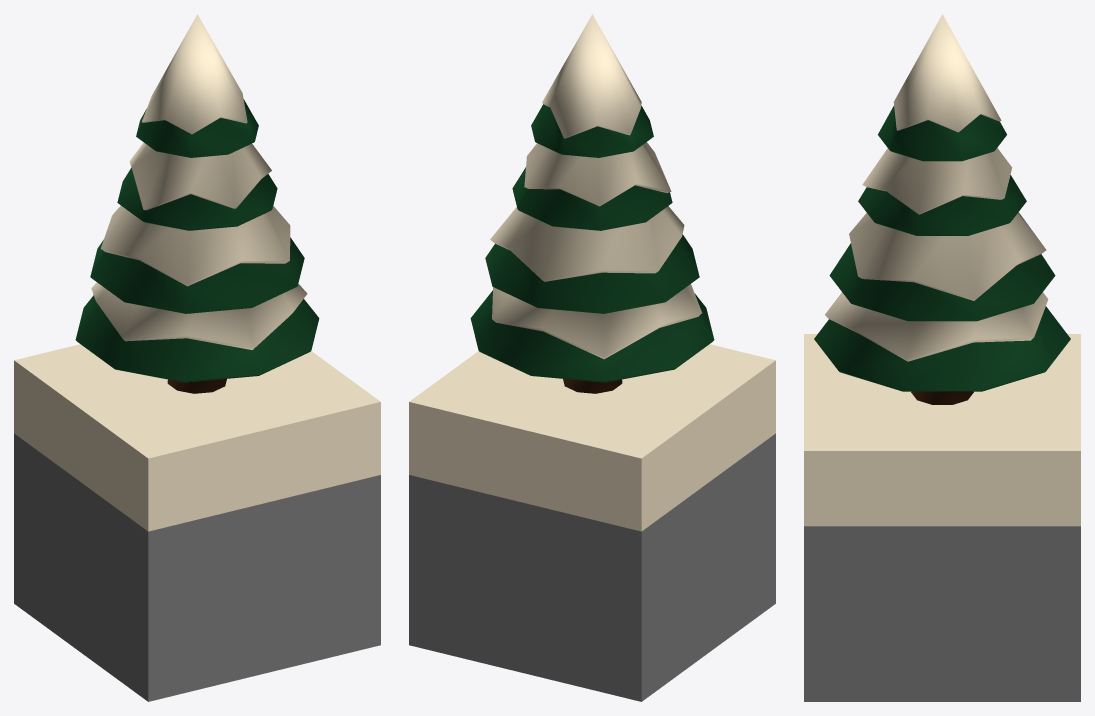
File: SnowPineTreeBlender.glb
3 renders of one model, left to right at view 1: azimuth 30°, elevation 25°; view 2: azimuth 150°, elevation 25°; view 3: azimuth 270°, elevation 25°, orthographic. The views are drawn at different scales.
Parts seen in each view (by area): view 1: WinterGroundRockSnow, WinterTreePineTall; view 2: WinterGroundRockSnow, WinterTreePineTall; view 3: WinterGroundRockSnow, WinterTreePineTall.
Part boxes in pixels (box(x1,y1,x2,y2)): WinterGroundRockSnow: box(14, 344, 380, 701); WinterTreePineTall: box(75, 14, 319, 393); WinterGroundRockSnow: box(409, 344, 775, 701); WinterTreePineTall: box(470, 14, 714, 393); WinterGroundRockSnow: box(804, 334, 1080, 701); WinterTreePineTall: box(814, 14, 1070, 404).
Bounding box in the file's own units: 2 × 5.02 × 2.
Materials: 1 (1 with a texture image).
